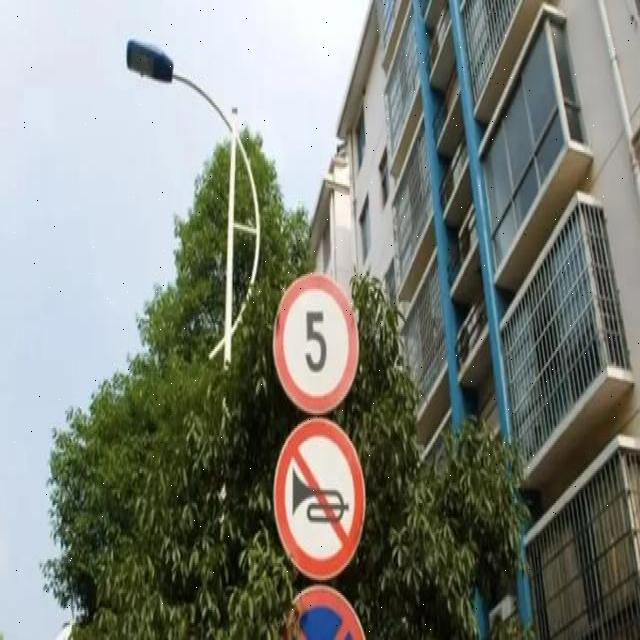speed limit 10: (273, 273, 361, 418)
